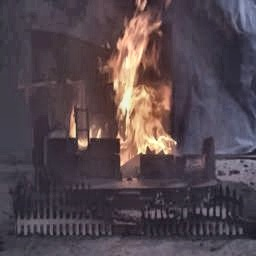fire: (80, 2, 181, 163)
